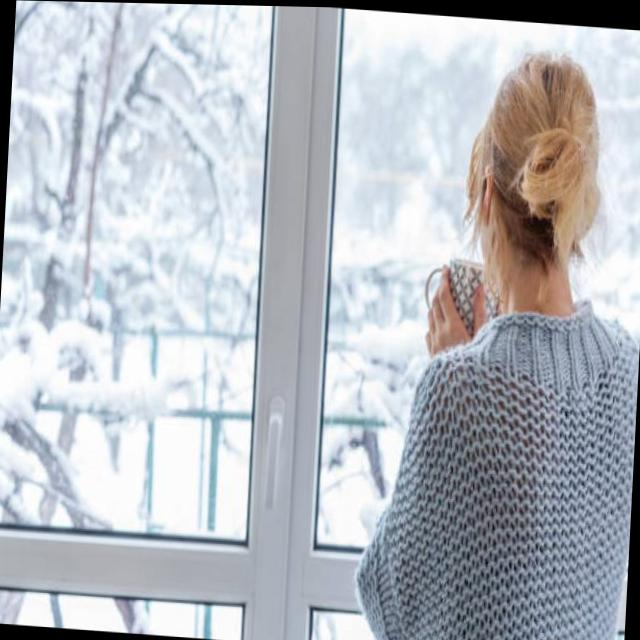no helmet: (420, 13, 604, 367)
